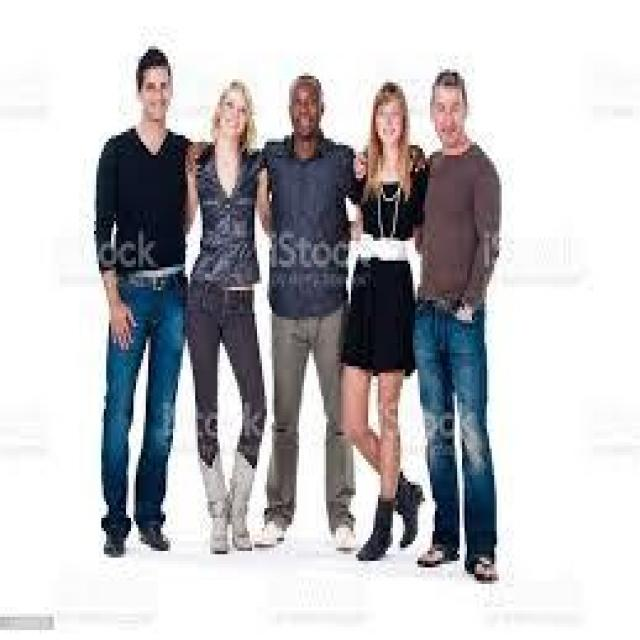person: (76, 23, 188, 584), (408, 59, 509, 607), (254, 60, 358, 558), (336, 46, 420, 581), (178, 50, 264, 564)
